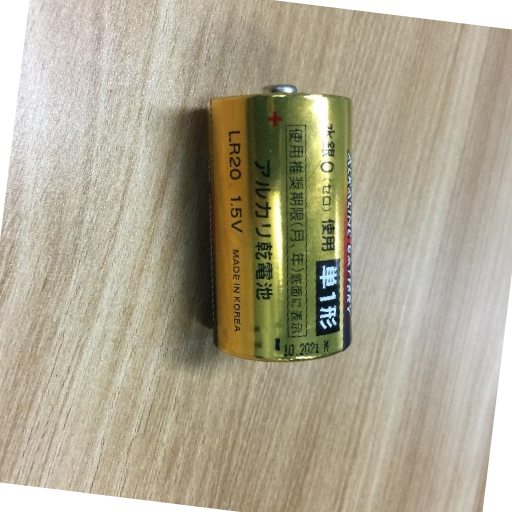Battery_0: (184, 74, 391, 373)
